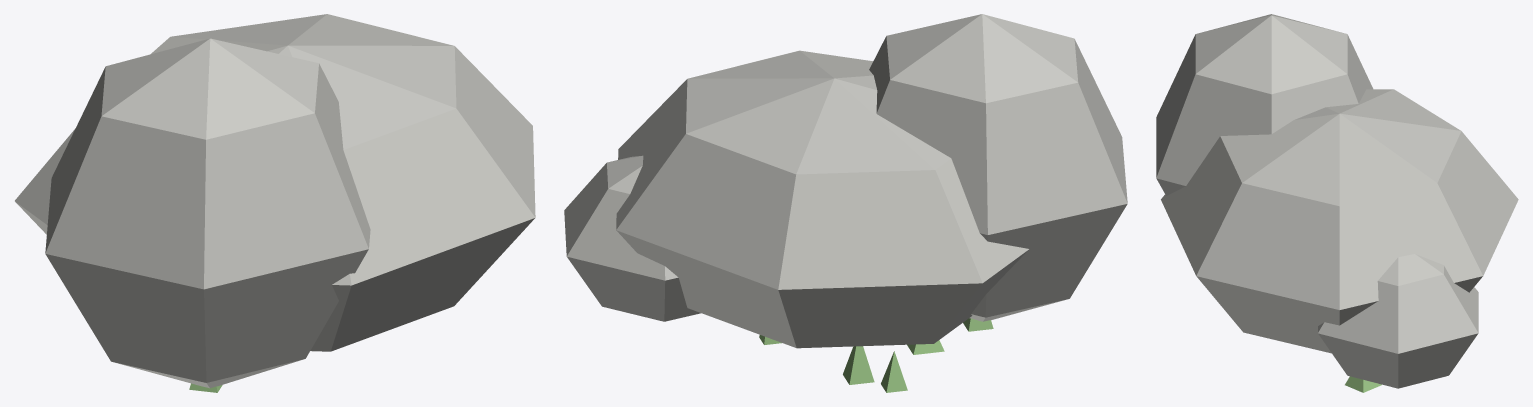
Rendered from rock-outcrop.glb.
The picture shows the model from 3 angles, left to right: view 1: azimuth 30°, elevation 25°; view 2: azimuth 150°, elevation 25°; view 3: azimuth 270°, elevation 25°; orthographic projection. The views are drawn at different scales.
Visible parts, largest first — view 1: rock-outcrop; view 2: rock-outcrop; view 3: rock-outcrop.
Boxes of the visible parts, x1,y1,x2,y2 form: rock-outcrop: (15,14,535,392); rock-outcrop: (564,14,1127,392); rock-outcrop: (1156,14,1518,392).
Size of the model in its own units: 4.98 by 3 by 3.72.
